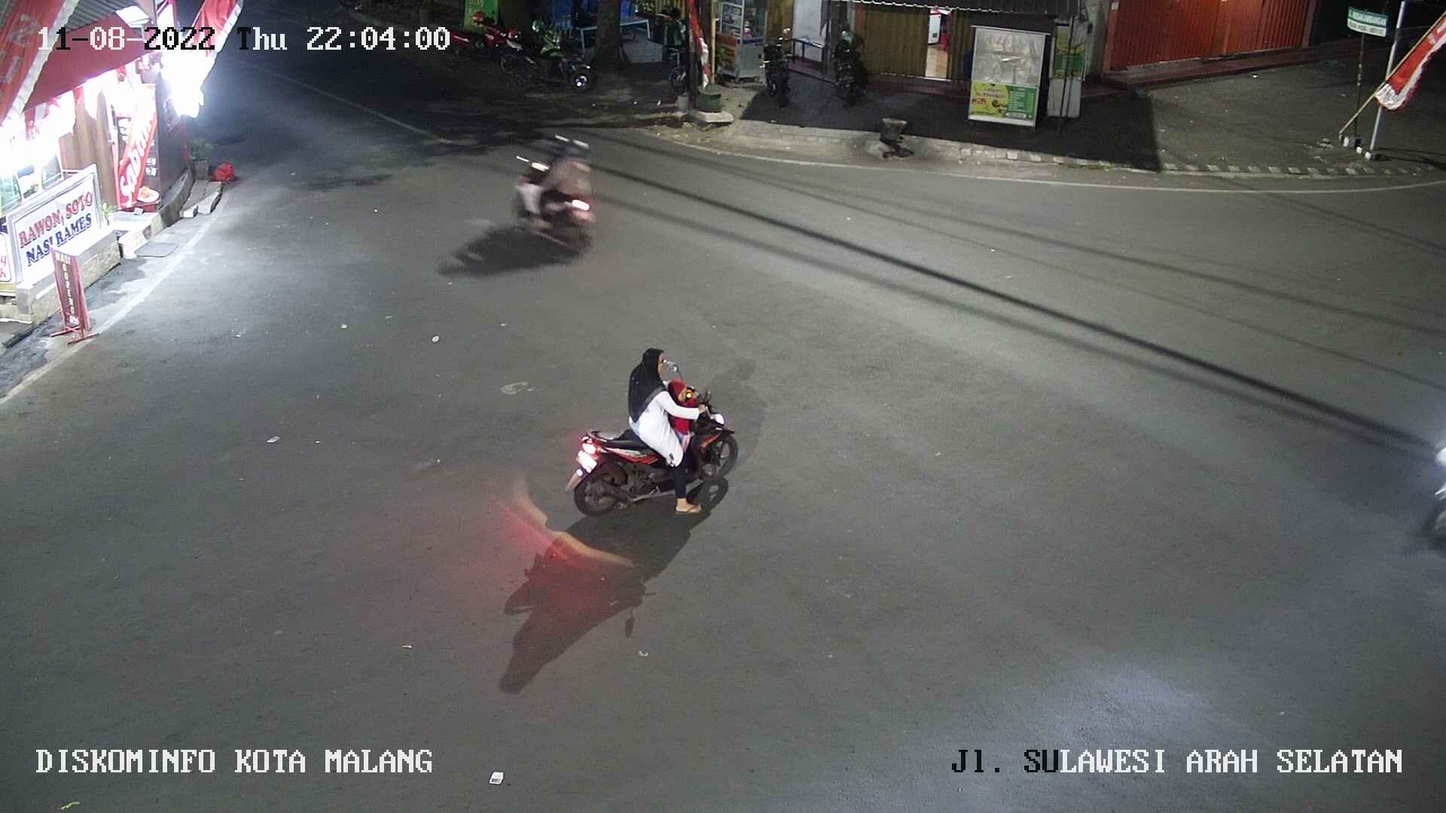with_helmet: (506, 127, 606, 259)
without_helmet: (541, 327, 746, 540)
